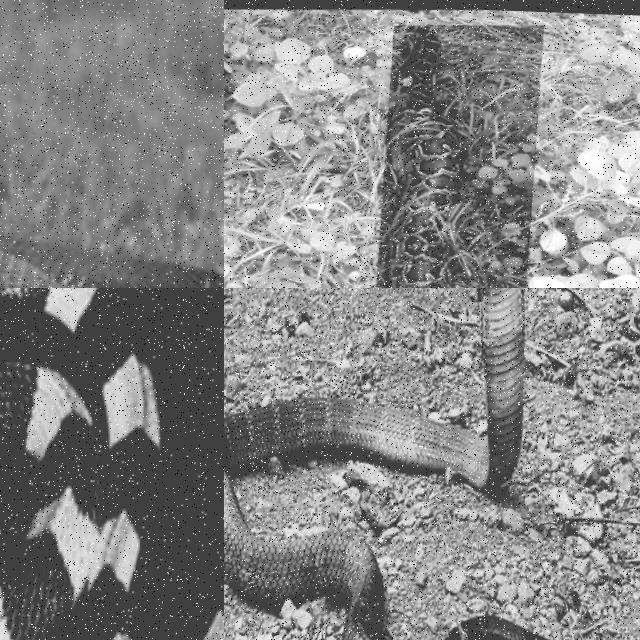Bungarus fasciatus: (0, 288, 160, 639)
Naja siamensis: (0, 236, 223, 287)
Ophiophagus hannah: (224, 288, 525, 639)
Python bivittatus: (386, 26, 462, 287)
